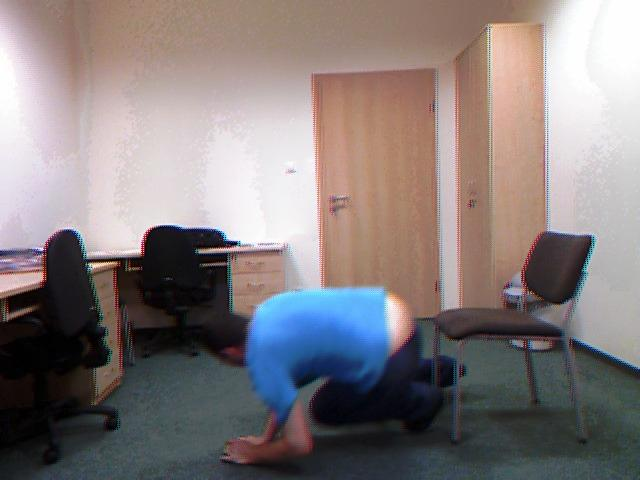fall: (202, 288, 444, 464)
